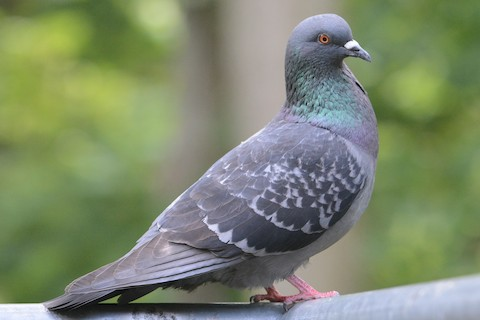pigeon: (39, 12, 384, 316)
